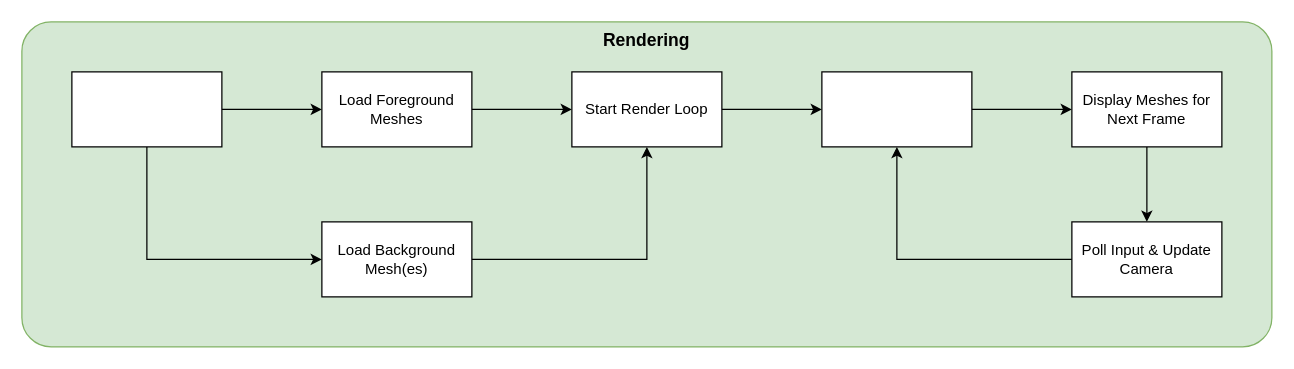
The diagram is 1294 pixels wide and 369 high, and some of its shapes have lost their labels. Each missing label, with the centre of its shape:
"Create THREE.js Scene" goes at (x=146, y=109).
"Remove Displayed Meshes" goes at (x=896, y=109).
